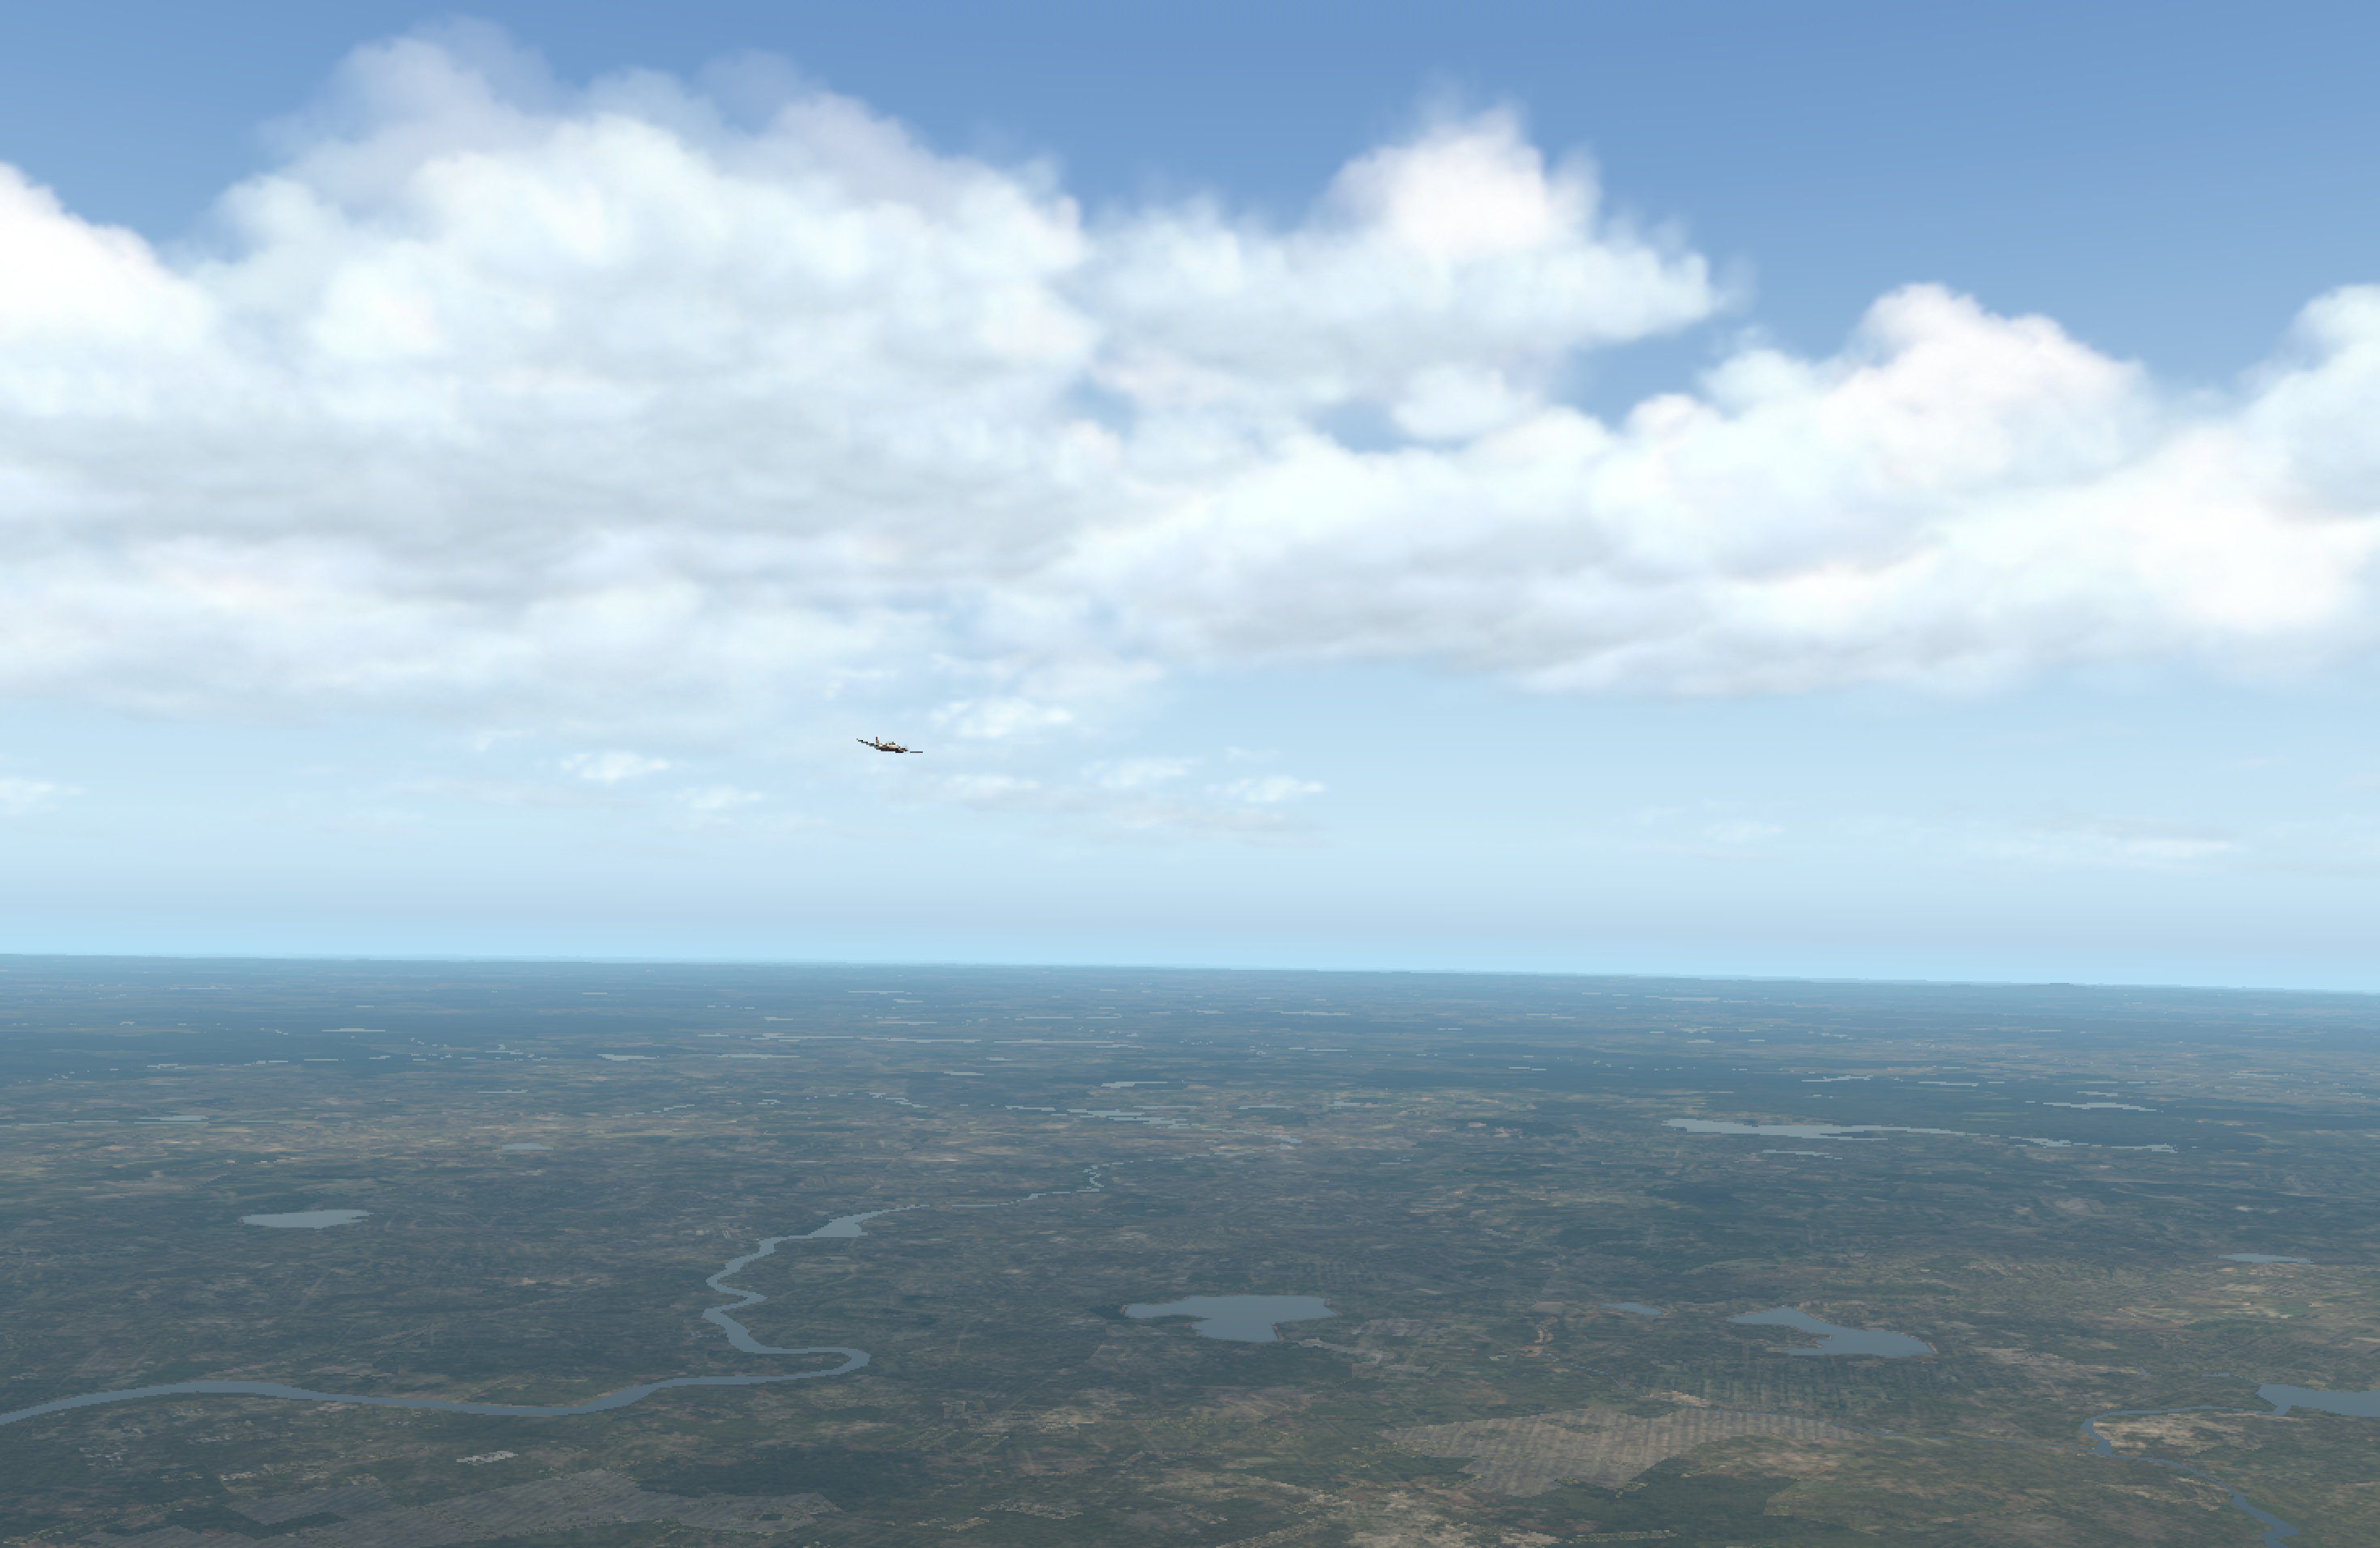aircraft: (853, 736, 928, 765)
